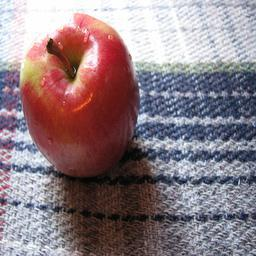apple: (16, 12, 142, 181)
